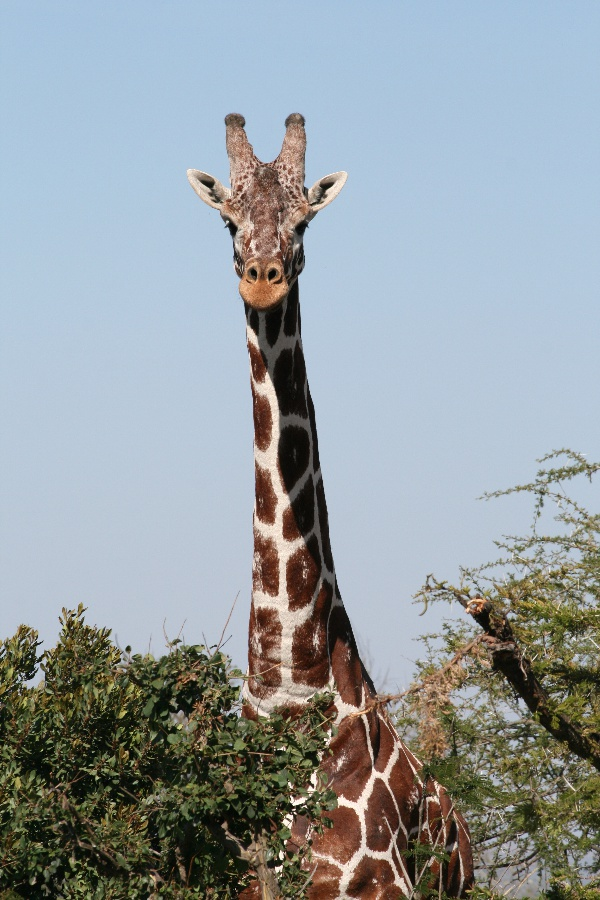giraffe: (160, 98, 484, 896)
